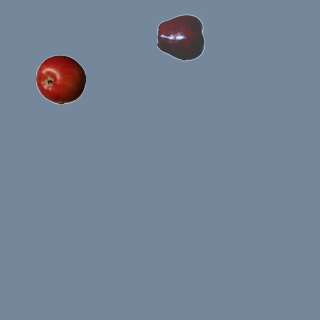Apple Braeburn: (35, 54, 85, 104)
Apple Red Delicious: (156, 12, 206, 62)
